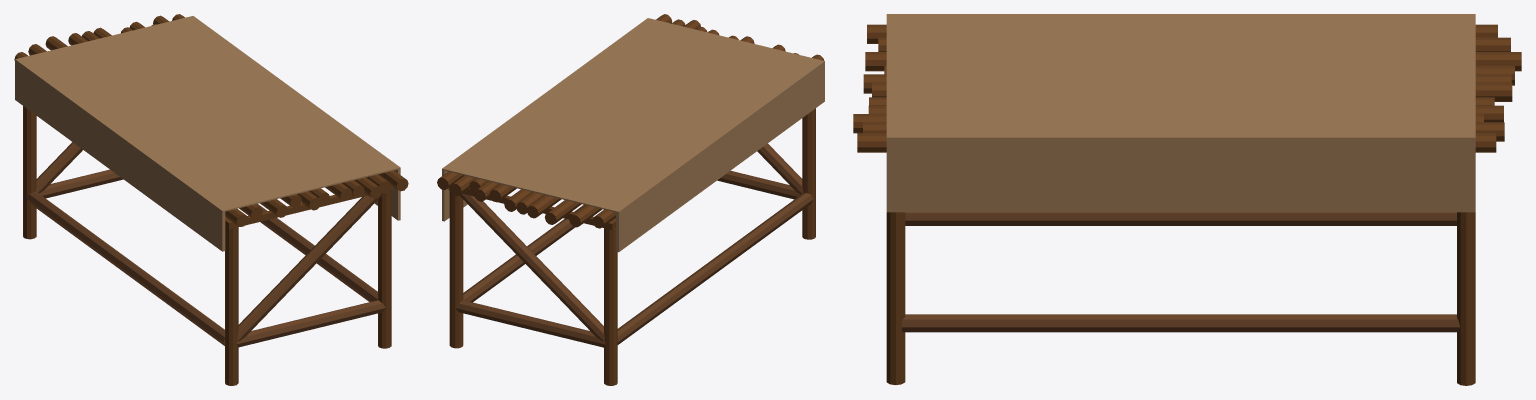
Rendered from Setting Table.fbx.
The picture shows the model from 3 angles, left to right: view 1: azimuth 30°, elevation 25°; view 2: azimuth 150°, elevation 25°; view 3: azimuth 270°, elevation 25°; orthographic projection. The views are drawn at different scales.
Visible parts, largest first — view 1: Setting Table; view 2: Setting Table; view 3: Setting Table.
Part boxes in pixels (box(x1,y1,x2,y2)): Setting Table: box(14, 14, 408, 385); Setting Table: box(437, 14, 824, 385); Setting Table: box(853, 14, 1521, 385).
Size of the model in its own units: 91.33 by 86.97 by 209.
